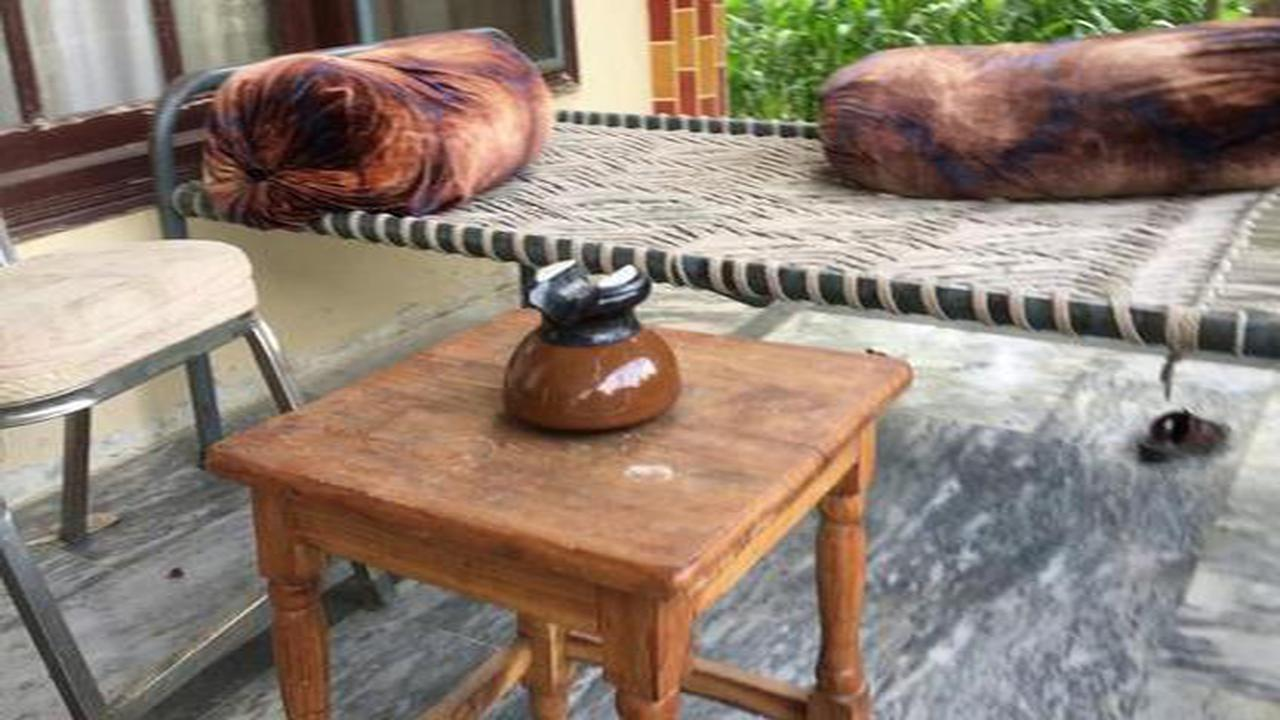insulator_pin: (481, 248, 687, 438)
